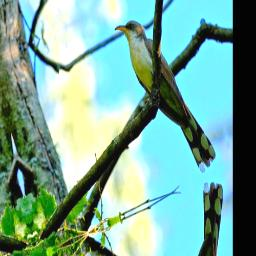Cuckoo: (114, 0, 218, 197)
